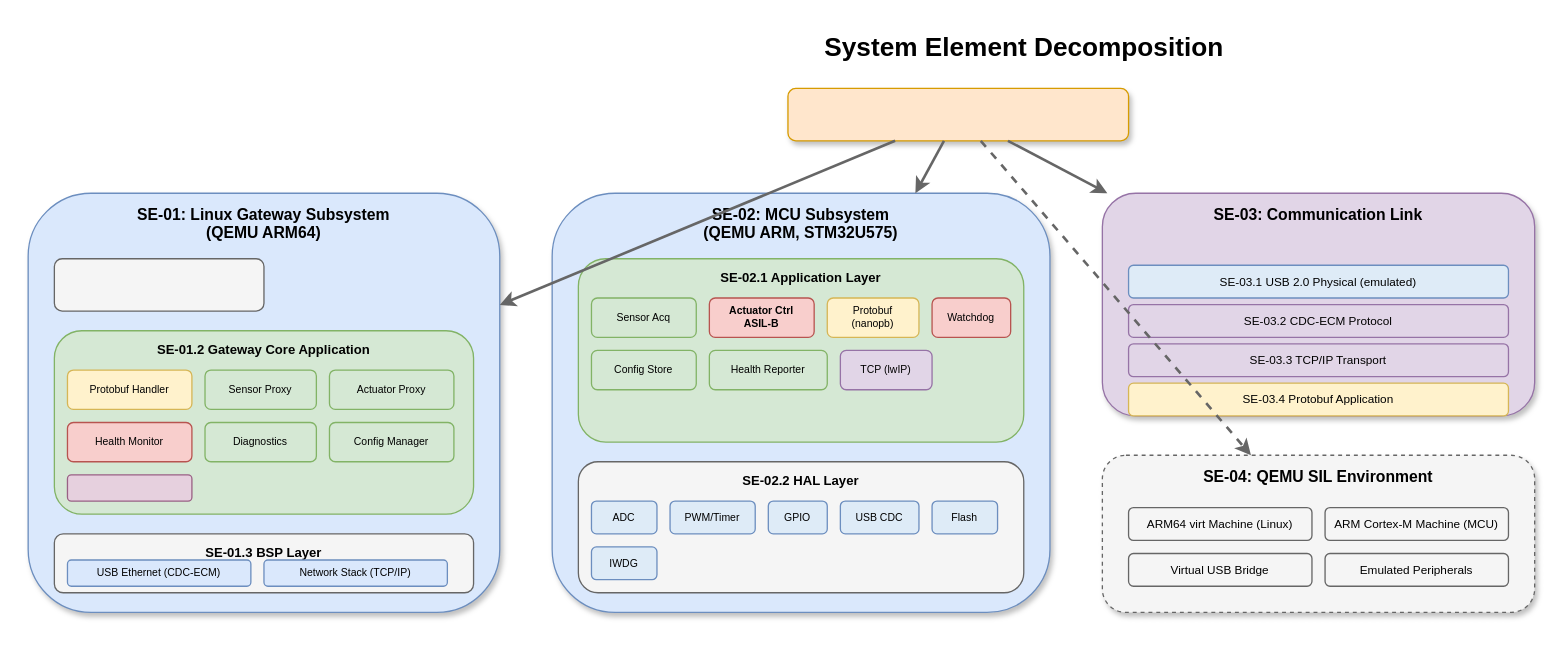
This 1565x645 diagram has some shape labels left out. The shapes that lost their labels are listed below. From the top down, each one's centre as x and y in pixels, then its label:
At (x=958, y=116): "Sentinel Gateway".
At (x=158, y=284): "SE-01.1 Operating System Yocto Linux (Poky)".
At (x=129, y=487): "Logger".
